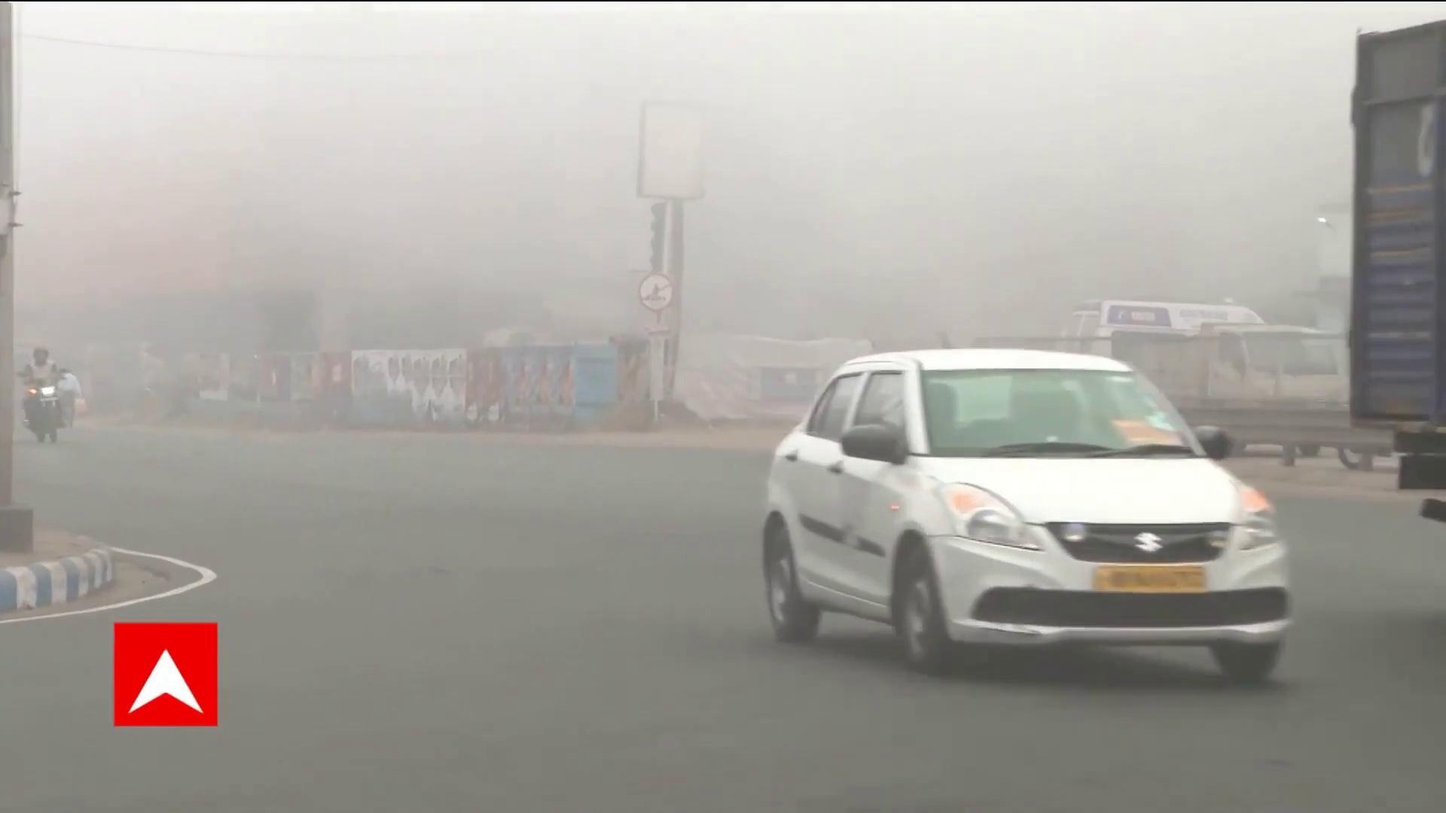Bike: (17, 344, 66, 445)
Car: (757, 345, 1297, 686)
